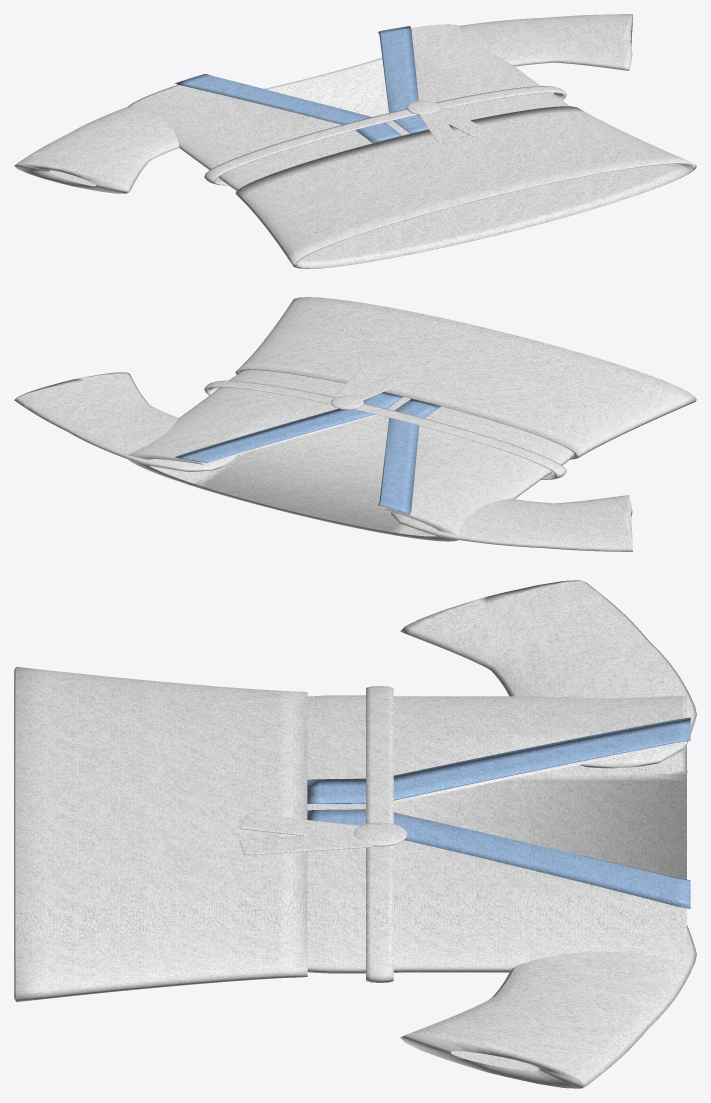
The model's file is bathrobe2.fbx.
3 views of the same model, one above another, from view 1: azimuth 30°, elevation 25°; view 2: azimuth 150°, elevation 25°; view 3: azimuth 270°, elevation 25° (orthographic). The views are drawn at different scales.
Parts seen in each view (by area): view 1: bathrobe2; view 2: bathrobe2; view 3: bathrobe2.
Boxes of the visible parts, x1,y1,x2,y2 form: bathrobe2: (14, 14, 696, 268); bathrobe2: (14, 297, 696, 551); bathrobe2: (14, 580, 696, 1088).
Size of the model in its own units: 1.63 by 0.1023 by 0.9335.
2 materials, 2 textured.
